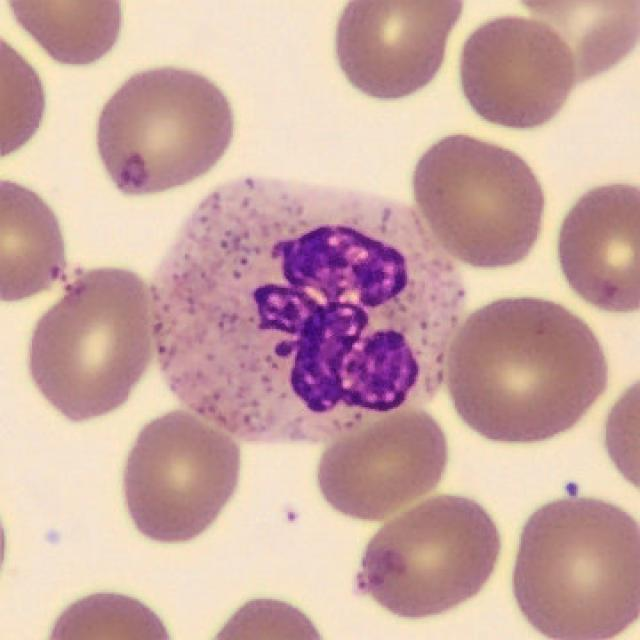Neutrofilo segmentado: (149, 176, 464, 444)
